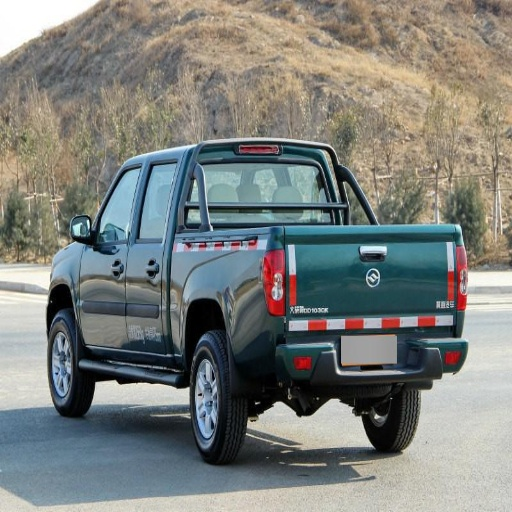_background_: (254, 317, 456, 381)
back_bumper: (224, 162, 319, 202)
back_glass: (127, 201, 164, 349)
back_left_door: (261, 254, 288, 317)
back_right_door: (453, 244, 467, 315)
front_glass: (80, 165, 144, 346)
tailgate: (154, 218, 458, 364)
trunk: (191, 333, 244, 464), (49, 310, 93, 417), (363, 387, 417, 450)
